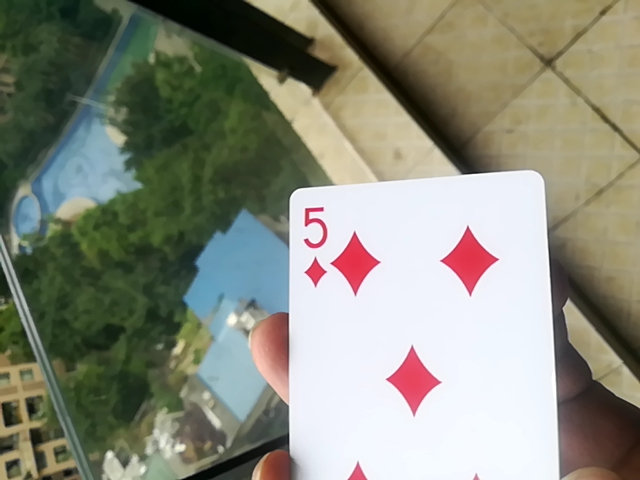fk 5: (275, 167, 562, 480)
